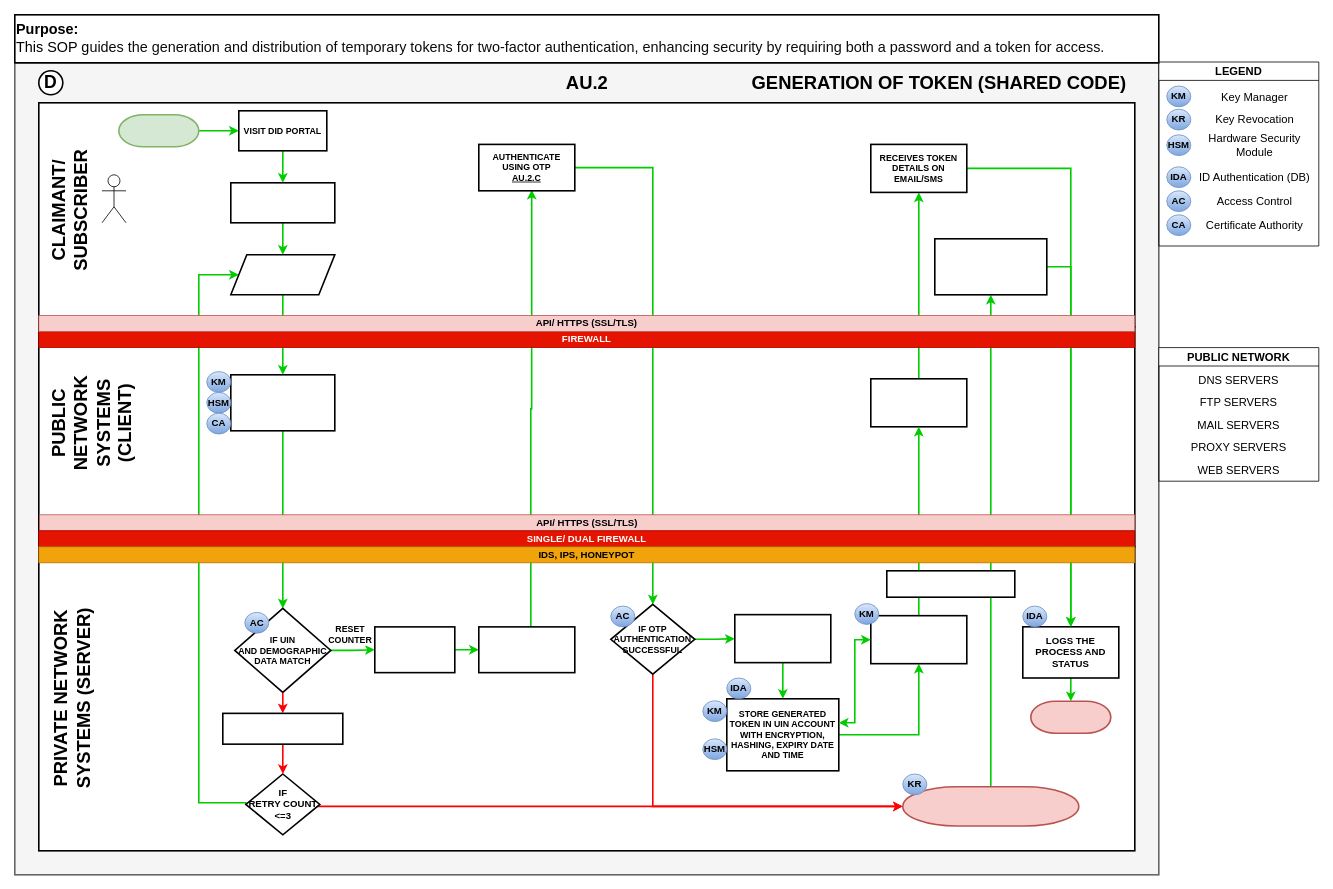
Some shapes in this 1333 by 889 pixel diagram are drawn without their labels. Each missing label, with the centre of its shape:
"ACTIVATE TOKEN AUTHENTICATOR" goes at point 918,639.
"CLICK GENERATE ONE-TIME TOKEN FOR AUTHENTICATION" goes at point 282,202.
"DISPLAY GENERATED TOKEN ON DISPLAY FOR SUBSCRIBER" goes at point 918,402.
"END" goes at point 1070,717.
"ENTER UIN AND DEMOGRAPHIC DATA" goes at point 282,274.
"EXCEPTION AND ERROR HANDLING (COUNTER)" goes at point 282,728.
"GENERATE OTP FOR SUBSCRIBER AUTHENTICATION AU.2.A" goes at point 526,649.
"GENERATE TOKEN WITH EXPIRY DATE AND TIME" goes at point 782,638.
"INITIATE TOKEN GENERATION" goes at point 414,649.
"MASK & ENCRYPT UIN AND DEMOGRAPHIC DATA FOR VERIFICATION" goes at point 282,402.
"NOTIFICATION GENERATOR" goes at point 950,584.
"RECEIVE UNSUCCESSFUL AUTHENTICATION ATTEMPT NOTIFICATION WITH TIMESTAMP" goes at point 990,266.
"START (ONLINE)" goes at point 158,130.
"TERMINATE PROCESS: RECORD TIMESTAMP AND ATTEMPT" goes at point 990,806.
"USER" goes at point 113,198.
